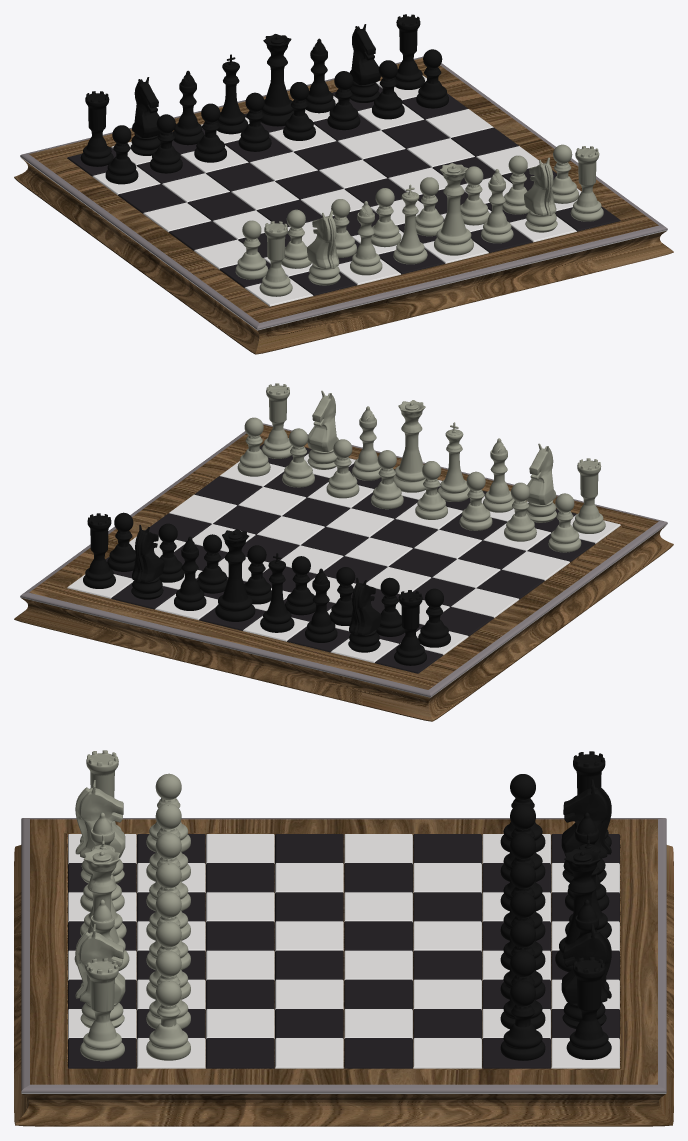
Rendered from chess.glb.
3 views of the same model, one above another, from view 1: azimuth 30°, elevation 25°; view 2: azimuth 150°, elevation 25°; view 3: azimuth 270°, elevation 25° (orthographic). The views are drawn at different scales.
Visible parts, largest first — view 1: Object_9, Object_13, Object_4, Object_6, Object_7, Object_11, Object_10; view 2: Object_9, Object_4, Object_13, Object_7, Object_6, Object_11, Object_10; view 3: Object_9, Object_6, Object_7, Object_13, Object_4, Object_11, Object_10.
Boxes of the visible parts, bbox=[...] form: Object_9: bbox=[14, 58, 673, 354]; Object_13: bbox=[80, 14, 448, 184]; Object_4: bbox=[235, 144, 603, 296]; Object_6: bbox=[92, 75, 581, 306]; Object_7: bbox=[67, 86, 620, 295]; Object_11: bbox=[20, 56, 667, 329]; Object_10: bbox=[20, 156, 667, 330]; Object_9: bbox=[14, 425, 673, 721]; Object_4: bbox=[237, 383, 605, 552]; Object_13: bbox=[83, 512, 450, 665]; Object_7: bbox=[105, 444, 595, 673]; Object_6: bbox=[67, 454, 620, 662]; Object_11: bbox=[20, 423, 667, 696]; Object_10: bbox=[20, 524, 667, 697]; Object_9: bbox=[14, 819, 673, 1126]; Object_6: bbox=[68, 834, 619, 1068]; Object_7: bbox=[68, 834, 619, 1068]; Object_13: bbox=[500, 751, 611, 1060]; Object_4: bbox=[74, 750, 190, 1061]; Object_11: bbox=[21, 818, 666, 1092]; Object_10: bbox=[21, 1092, 666, 1093].
Bounding box in the file's own units: 18.97 × 4.77 × 18.97.
Materials: 7 (7 with a texture image).
